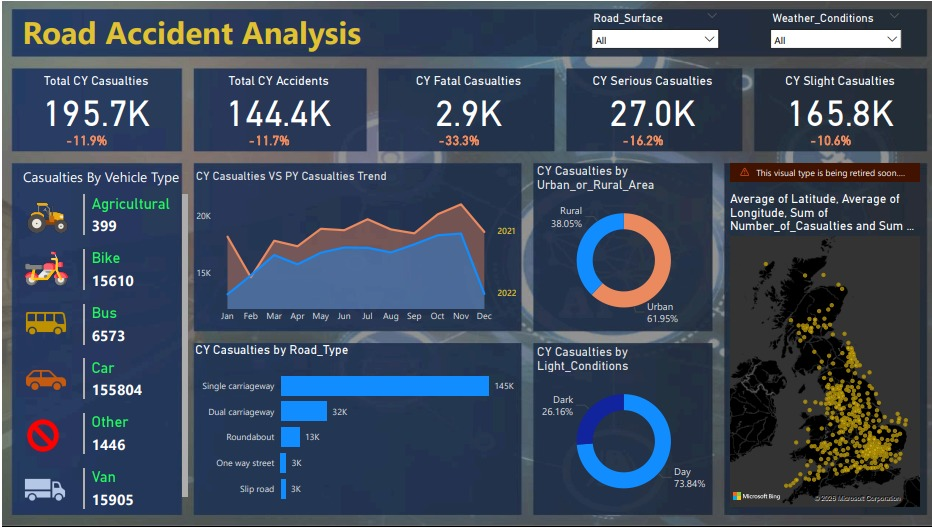

This screenshot's page, from the dashboard's own definition file:
{"tool":"powerbi","page":{"name":"Page 1","canvas":[1280,720],"ordinal":0},"visuals":[{"type":"group","id":"g1","title":"Group 1","box":[23.3,98.3,211.7,113.3],"z":0},{"type":"card","title":"Total CY Casualties","fields":{"Values":["Data.CY Casualties"]},"box":[23.3,98.3,211.7,80],"z":0,"group":"g1"},{"type":"card","title":"Total CY Accidents","fields":{"Values":["Data.Total CY Accidents Count"]},"box":[273.3,98.3,211.7,80],"z":0,"group":"g2"},{"type":"card","title":"CY Fatal Casualties","fields":{"Values":["Data.CY Casualties"]},"box":[533.3,98.3,211.7,80],"z":0,"group":"g3"},{"type":"card","title":"CY Serious Casualties","fields":{"Values":["Data.CY Casualties"]},"box":[785,98.3,211.7,80],"z":0,"group":"g4"},{"type":"card","title":"CY Slight Casualties","fields":{"Values":["Data.CY Casualties"]},"box":[1041.7,98.3,211.7,80],"z":0,"group":"g5"},{"type":"group","id":"g2","title":"Group 1","box":[273.3,98.3,211.7,113.3],"z":1000},{"type":"card","fields":{"Values":["Data.YoY Casualties"]},"box":[73.3,171.6,85,40],"z":1000,"group":"g1"},{"type":"card","fields":{"Values":["Data.YoY Accidents"]},"box":[323.3,171.6,85,40],"z":1000,"group":"g2"},{"type":"card","fields":{"Values":["Data.YoY Casualties"]},"box":[583.3,171.6,85,40],"z":1000,"group":"g3"},{"type":"card","fields":{"Values":["Data.YoY Casualties"]},"box":[835,171.6,85,40],"z":1000,"group":"g4"},{"type":"card","fields":{"Values":["Data.YoY Casualties"]},"box":[1091.7,171.6,85,40],"z":1000,"group":"g5"},{"type":"group","id":"g3","title":"Group 1","box":[533.3,98.3,211.7,113.3],"z":2000},{"type":"group","id":"g4","title":"Group 1","box":[785,98.3,211.7,113.3],"z":3000},{"type":"group","id":"g5","title":"Group 1","box":[1041.7,98.3,211.7,113.3],"z":4000},{"type":"textbox","box":[23.3,7.8,474.4,68.9],"z":5000},{"type":"multiRowCard","fields":{"Values":["Data.Vehicle_Type (groups)","Data.CY Casualties"]},"box":[106,260,154,442],"z":6000},{"type":"textbox","box":[24.4,222.2,227.8,37.8],"z":7000},{"type":"areaChart","title":"CY Casualties VS PY Casualties Trend","fields":{"Category":["Calendar.Month"],"Y":["Sum(Data.Number_of_Casualties)"],"Series":["Calendar.Date.Variation.Date Hierarchy.Year"]},"box":[261.1,230,452.2,220],"z":8000},{"type":"barChart","fields":{"Category":["Data.Road_Type"],"Y":["Data.CY Casualties"]},"box":[260,466.7,453.3,235],"z":9000},{"type":"donutChart","fields":{"Category":["Data.Urban_or_Rural_Area"],"Y":["Data.CY Casualties"]},"box":[728.3,221.7,246.7,228.3],"z":10000},{"type":"donutChart","title":"CY Casualties by Light_Conditions ","fields":{"Y":["Data.CY Casualties"],"Category":["Data.Light_Conditions (groups)"]},"box":[728.3,470,246.7,228.3],"z":11000},{"type":"image","box":[13.3,338.3,93.3,56.7],"z":12000},{"type":"image","box":[13.3,411.7,93.3,58.3],"z":13000},{"type":"image","box":[13.3,490,93.3,58.3],"z":14000},{"type":"image","box":[11.7,640,93.3,58.3],"z":15000},{"type":"image","box":[20,266.7,83.3,58.3],"z":16000},{"type":"image","box":[18.3,568.3,75,53.3],"z":17000},{"type":"slicer","fields":{"Values":["Data.Weather_Conditions (groups)"]},"box":[1041.7,8.3,200,68.3],"z":18000},{"type":"slicer","fields":{"Values":["Data.Road_Surface_Conditions"]},"box":[796.7,8.3,195,68.3],"z":19000},{"type":"barChart","title":"Casualties By Districts","fields":{"Y":["Sum(Data.Number_of_Casualties)"],"Category":["Data.Local_Authority_(District)"]},"box":[991.7,222.2,260.8,481.1],"z":20000}]}

Visuals, with their boxes in screenshot pixels (x1, y1, x2, y2), scaled from the page's 1280x720 canvas onto the 932x528 screenshot:
"Group 1" group: l=17, t=72, r=171, b=155
"Total CY Casualties" card: l=17, t=72, r=171, b=131
"Total CY Accidents" card: l=199, t=72, r=353, b=131
"CY Fatal Casualties" card: l=388, t=72, r=542, b=131
"CY Serious Casualties" card: l=572, t=72, r=726, b=131
"CY Slight Casualties" card: l=758, t=72, r=913, b=131
"Group 1" group: l=199, t=72, r=353, b=155
card - Data.YoY Casualties: l=53, t=126, r=115, b=155
card - Data.YoY Accidents: l=235, t=126, r=297, b=155
card - Data.YoY Casualties: l=425, t=126, r=487, b=155
card - Data.YoY Casualties: l=608, t=126, r=670, b=155
card - Data.YoY Casualties: l=795, t=126, r=857, b=155
"Group 1" group: l=388, t=72, r=542, b=155
"Group 1" group: l=572, t=72, r=726, b=155
"Group 1" group: l=758, t=72, r=913, b=155
textbox: l=17, t=6, r=362, b=56
multiRowCard - Data.Vehicle_Type (groups) x Data.CY Casualties: l=77, t=191, r=189, b=515
textbox: l=18, t=163, r=184, b=191
"CY Casualties VS PY Casualties Trend" areaChart: l=190, t=169, r=519, b=330
barChart - Data.Road_Type x Data.CY Casualties: l=189, t=342, r=519, b=515
donutChart - Data.Urban_or_Rural_Area x Data.CY Casualties: l=530, t=163, r=710, b=330
"CY Casualties by Light_Conditions " donutChart: l=530, t=345, r=710, b=512
image: l=10, t=248, r=78, b=290
image: l=10, t=302, r=78, b=345
image: l=10, t=359, r=78, b=402
image: l=9, t=469, r=76, b=512
image: l=15, t=196, r=75, b=238
image: l=13, t=417, r=68, b=456
slicer - Data.Weather_Conditions (groups): l=758, t=6, r=904, b=56
slicer - Data.Road_Surface_Conditions: l=580, t=6, r=722, b=56
"Casualties By Districts" barChart: l=722, t=163, r=912, b=516
